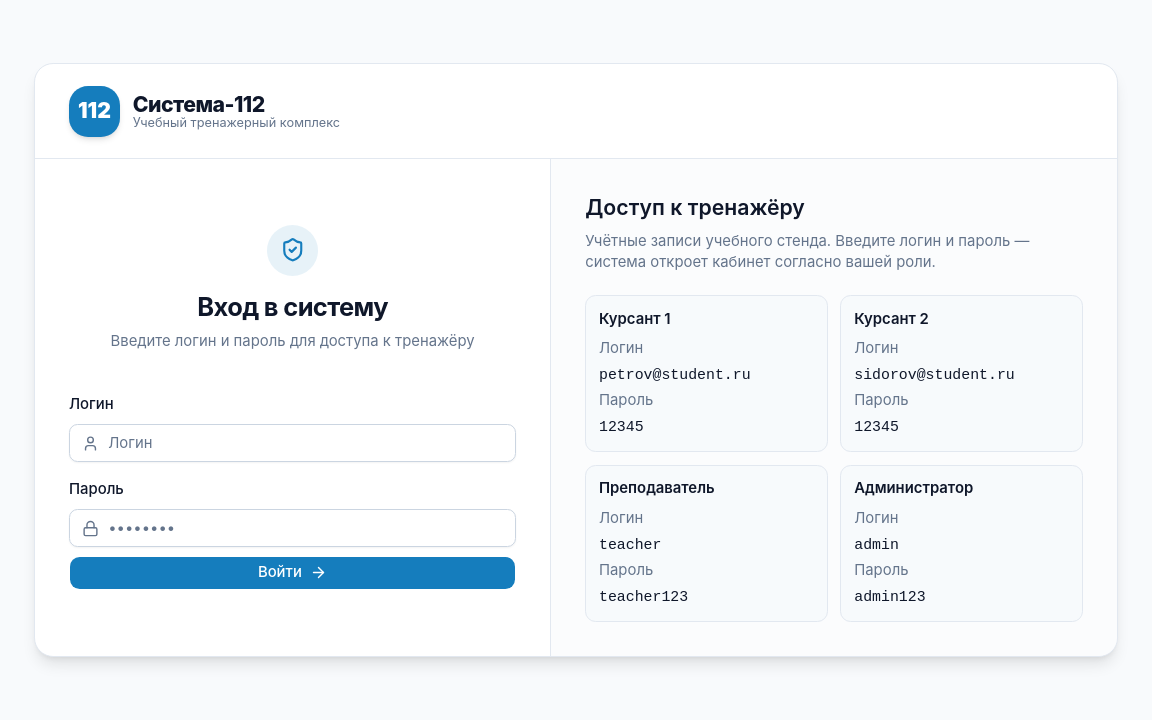
LoginPage 2FA Flow › switches to 2FA step when backend requires 2FA
In the field labelled "Логин": (293, 443) [69,424,516,462], type "admin"
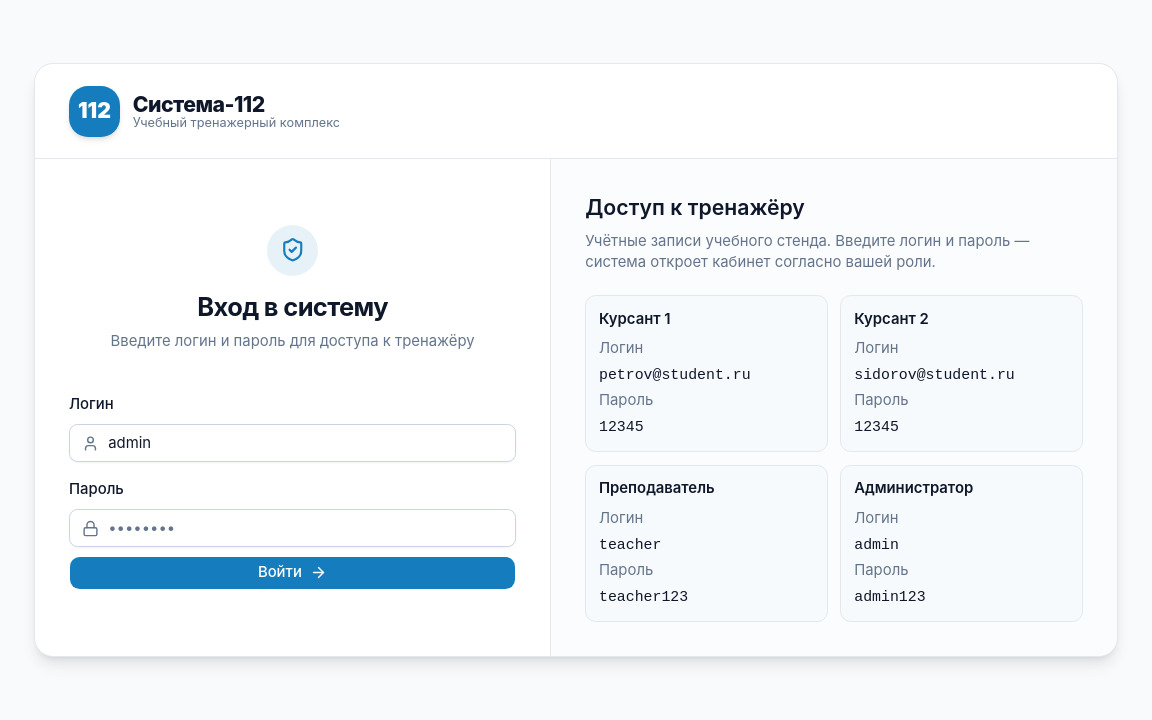
In the password field with placeholder "••••••••": (293, 528) [69,509,516,548], type "password"
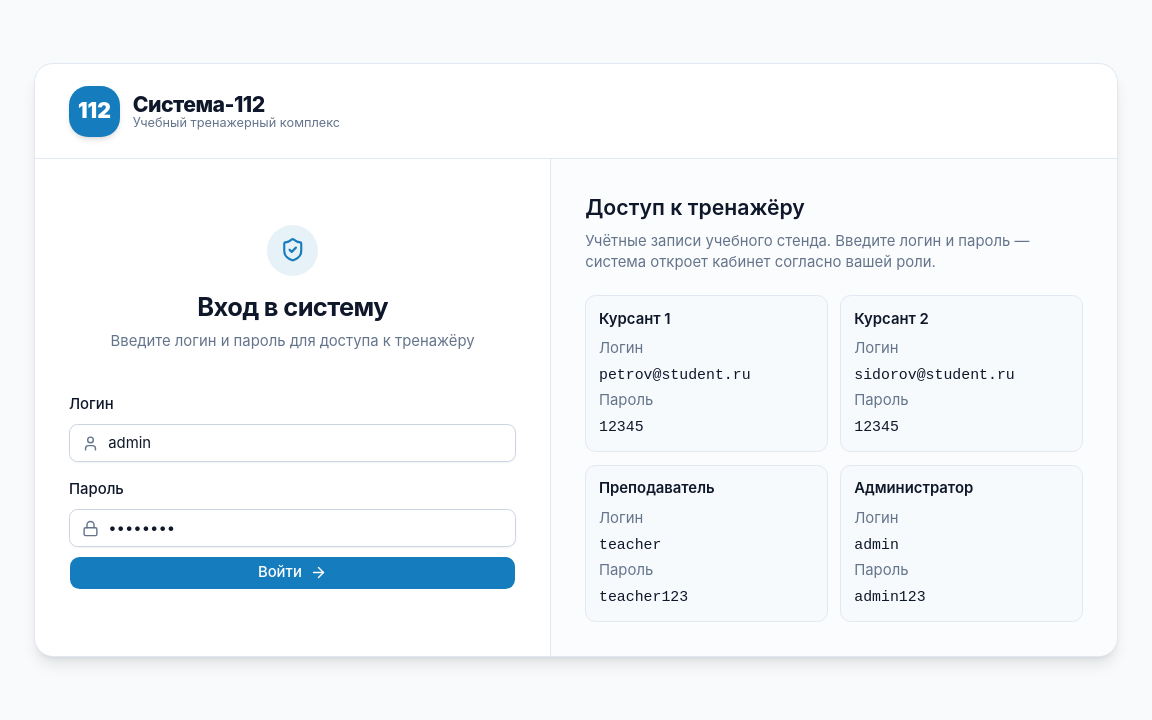
Click the button "Войти": (293, 573) [69,556,516,590]
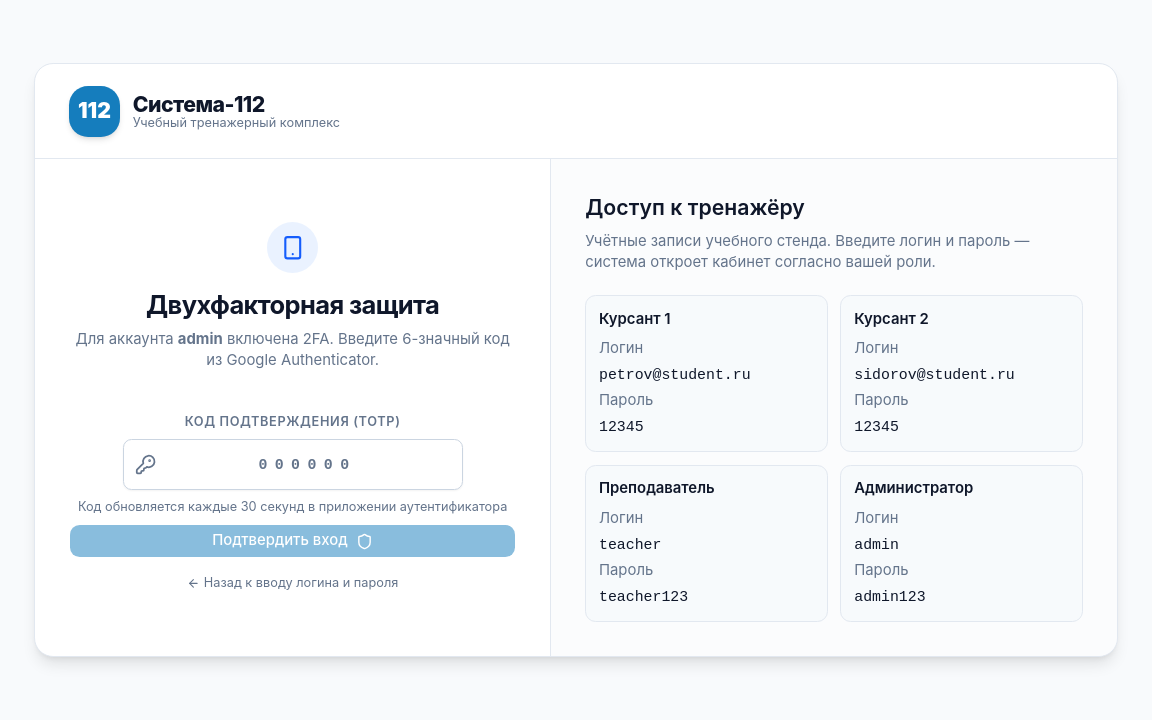
Result: the text "Двухфакторная защита" is shown at [146,289,439,320]
Result: the field with placeholder "000000" is shown at [123,439,463,490]
